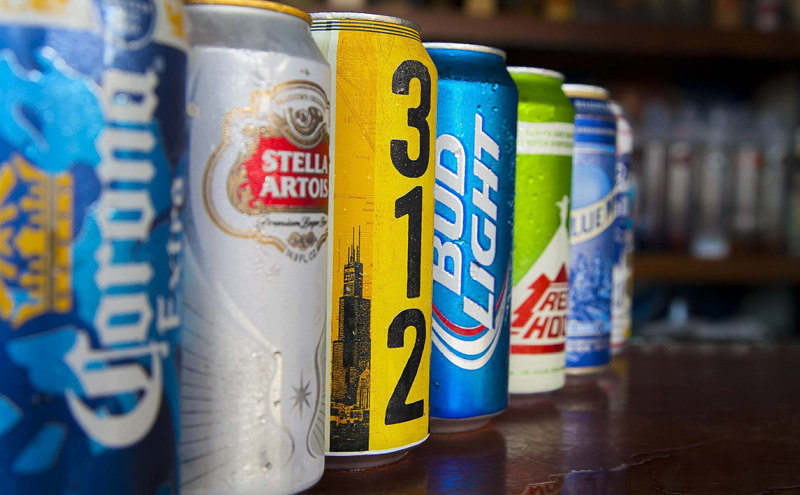beer can: (1, 4, 192, 494), (163, 1, 330, 491), (286, 11, 432, 449), (405, 41, 515, 432), (487, 57, 570, 396), (522, 81, 616, 376), (612, 94, 635, 353)
